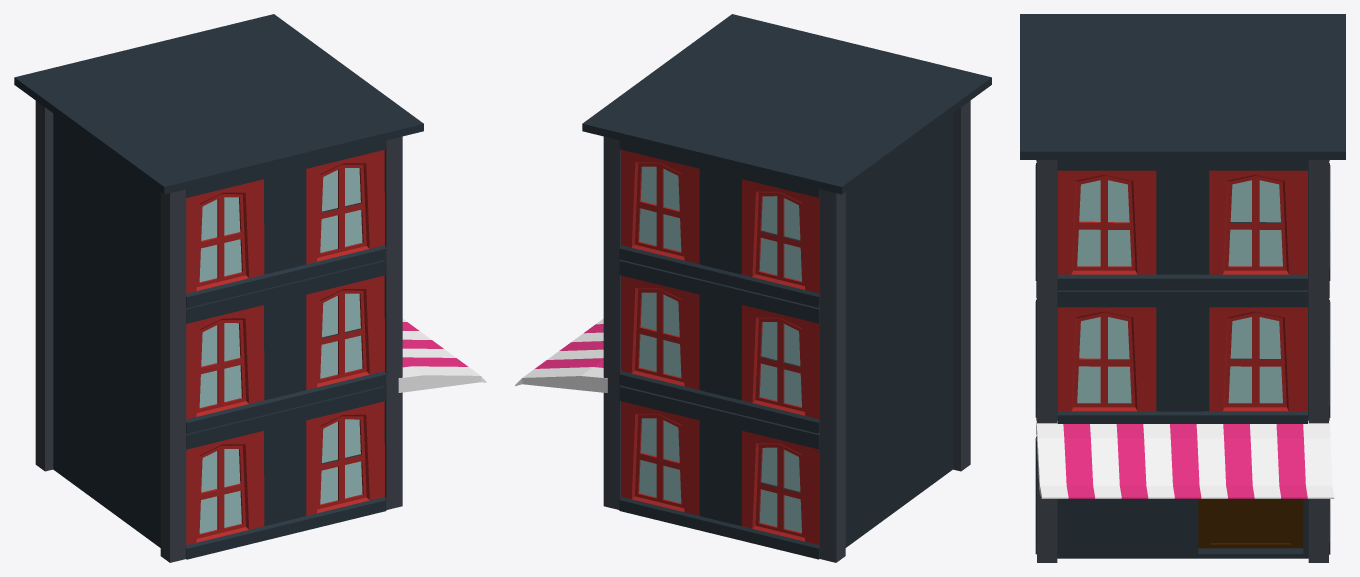
Rendered from buildings_2.fbx_3Story_-_Red.fbx.
3 views of the same model, side by side, from view 1: azimuth 30°, elevation 25°; view 2: azimuth 150°, elevation 25°; view 3: azimuth 270°, elevation 25° (orthographic). The views are drawn at different scales.
Parts seen in each view (by area): view 1: 3Story - Red; view 2: 3Story - Red; view 3: 3Story - Red.
Boxes of the visible parts, x1,y1,x2,y2 form: 3Story - Red: (14,14,486,562); 3Story - Red: (515,14,991,562); 3Story - Red: (1020,14,1345,562).
Bounding box in the file's own units: 1658 × 1837 × 1296.
